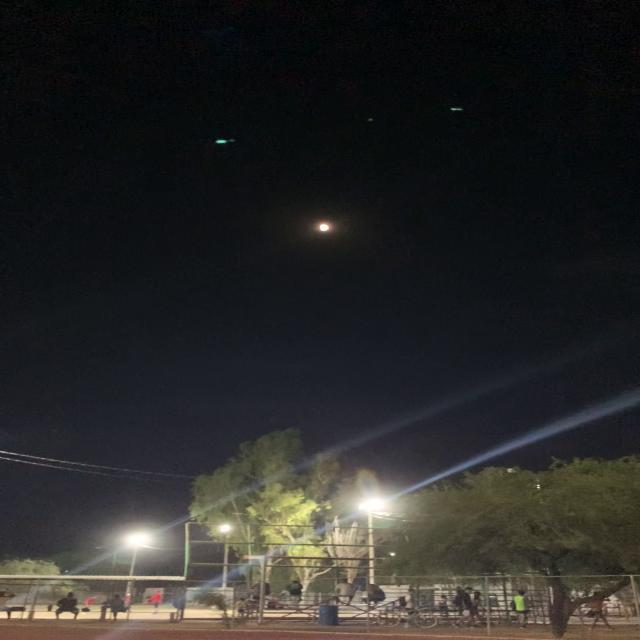moon: (312, 217, 347, 243)
